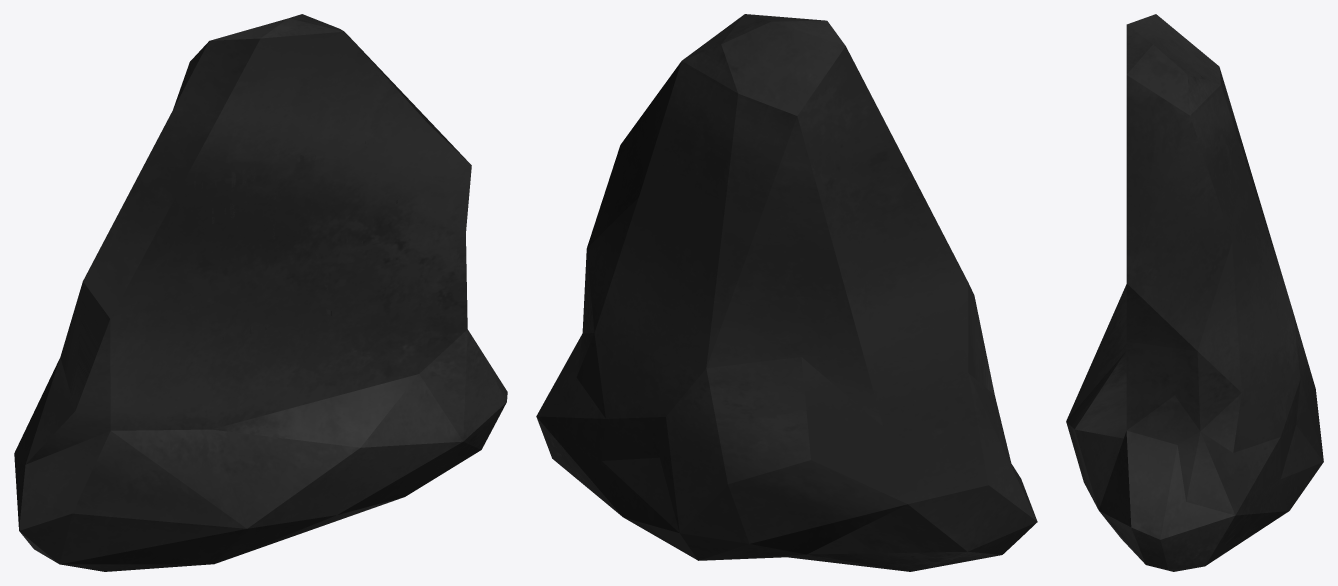
File: Template_Happiness.fbx
3 views of the same model, side by side, from view 1: azimuth 30°, elevation 25°; view 2: azimuth 150°, elevation 25°; view 3: azimuth 270°, elevation 25° (orthographic). The views are drawn at different scales.
Parts seen in each view (by area): view 1: Template_Happiness; view 2: Template_Happiness; view 3: Template_Happiness.
Part boxes in pixels (x1,y1,x2,y2): Template_Happiness: [14, 14, 507, 571]; Template_Happiness: [536, 14, 1037, 571]; Template_Happiness: [1066, 14, 1323, 571].
Size of the model in its own units: 278 by 272 by 137.
